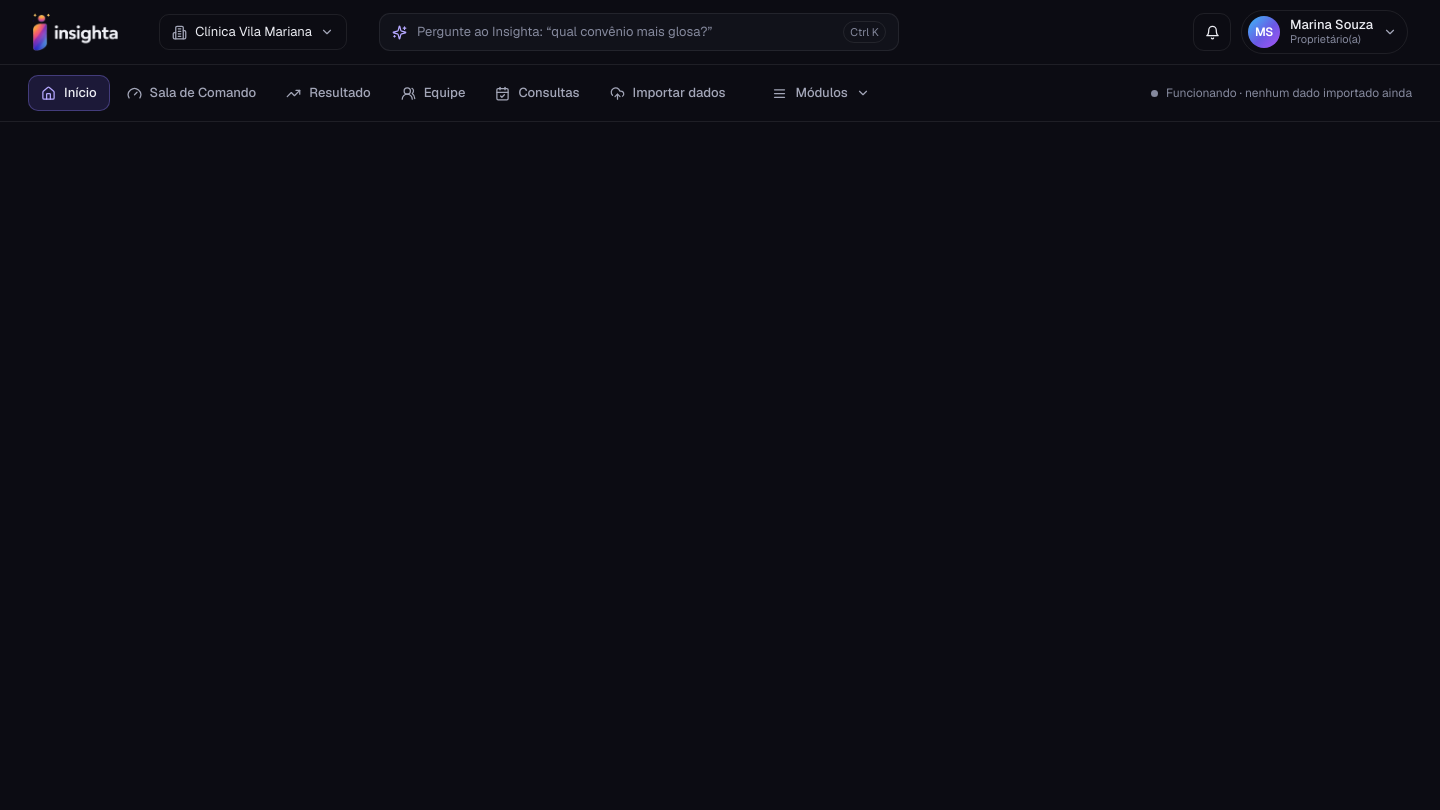
Test: TopBar › owner vê os módulos agrupados e a administração só no menu do avatar
Expected: the link "Sala de Comando" is shown, top-left (127, 84), bottom-right (256, 101)
Expected: the link "Integrações" is not shown
Click the button "Módulos" at (821,93), box top-left (760, 75), bottom-right (883, 111)
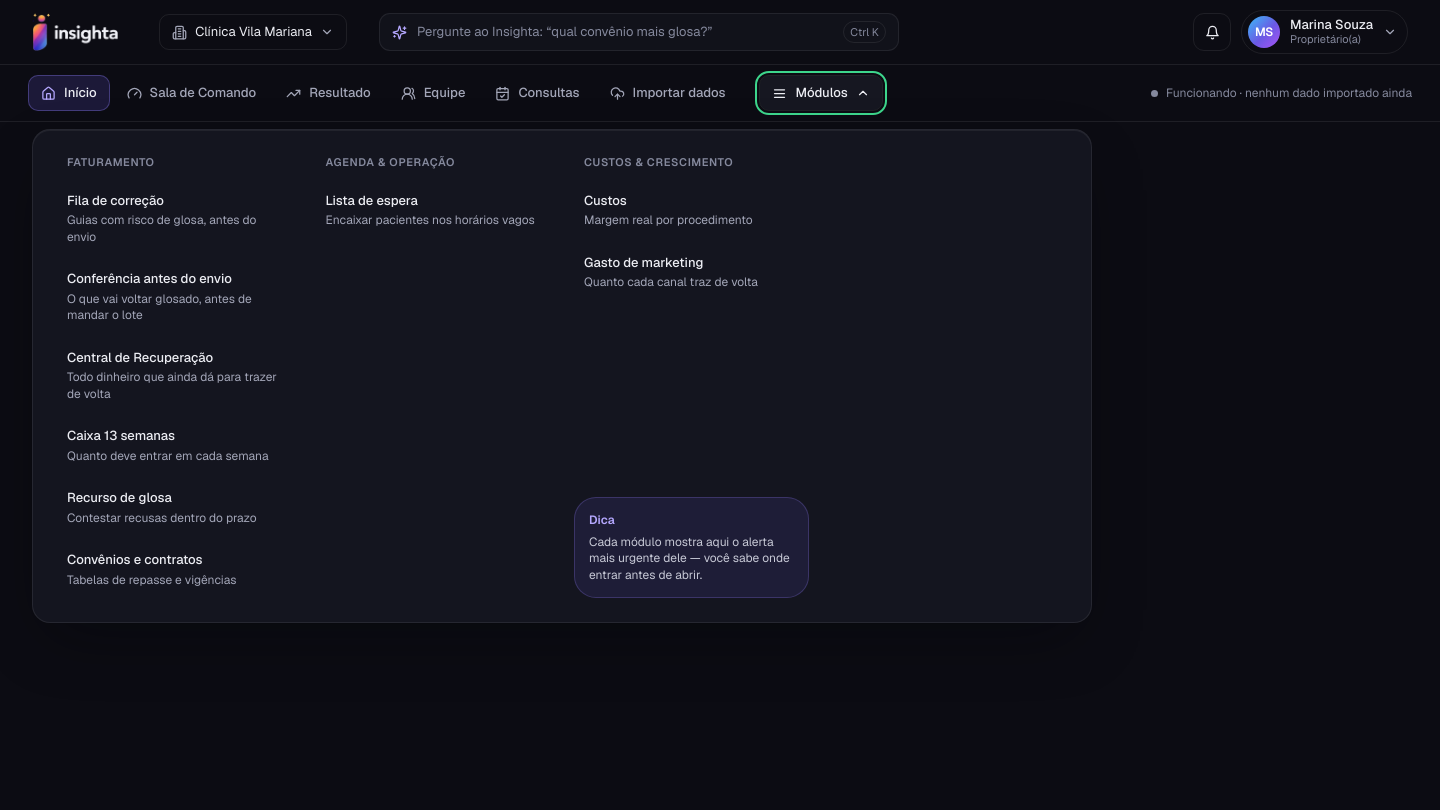
Expected: the link "Convênios e contratos Tabelas de repasse e vigências" is shown, top-left (67, 551), bottom-right (236, 588)
Expected: the link "Recurso de glosa Contestar recusas dentro do prazo" is shown, top-left (67, 489), bottom-right (256, 526)
Click the button with aria-label "Conta e configurações" at (1325,32), box top-left (1241, 10), bottom-right (1408, 54)
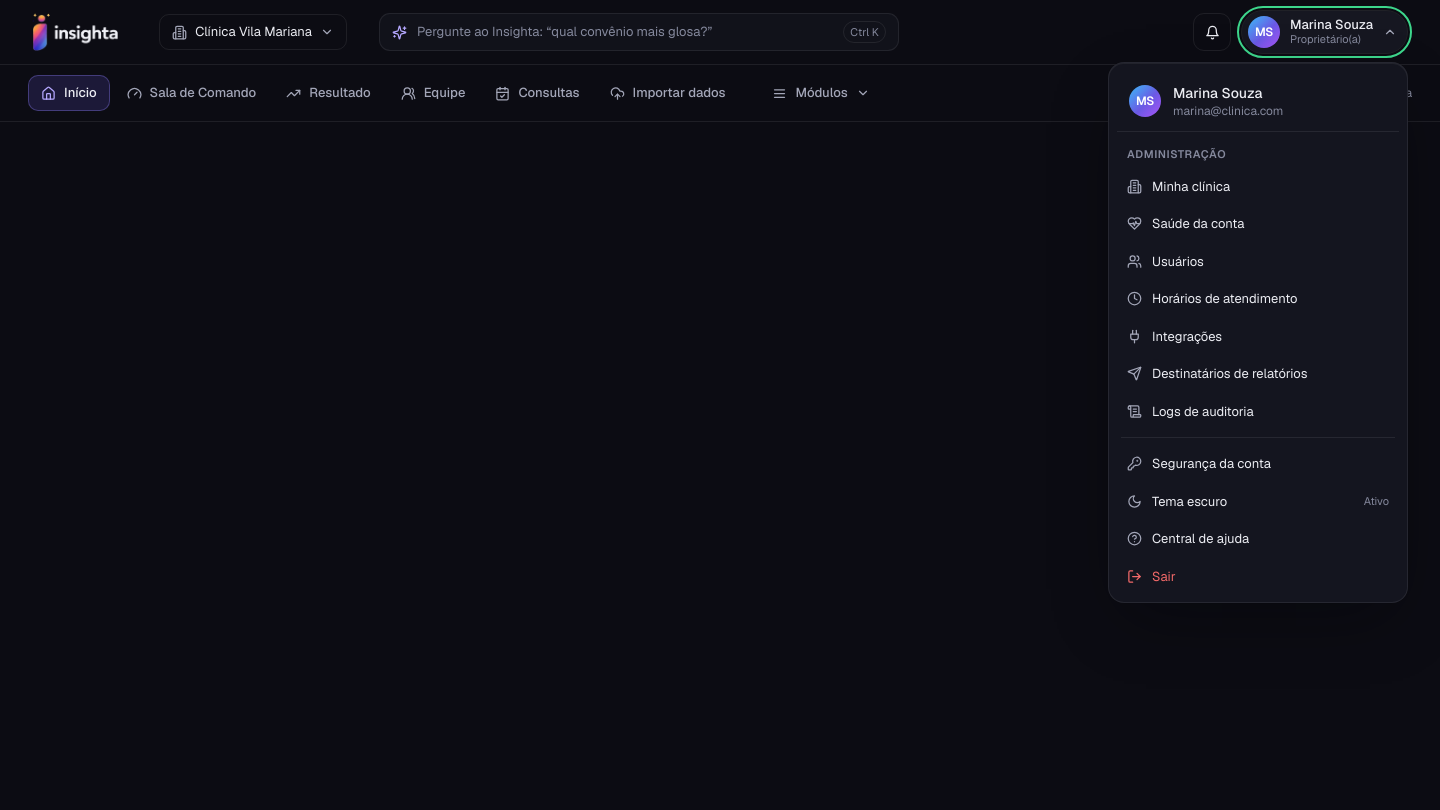
Expected: the text "Administração" is shown, top-left (1127, 147), bottom-right (1226, 161)
Expected: the link "Usuários" is shown, top-left (1127, 252), bottom-right (1204, 270)
Expected: the link "Integrações" is shown, top-left (1127, 328), bottom-right (1222, 344)
